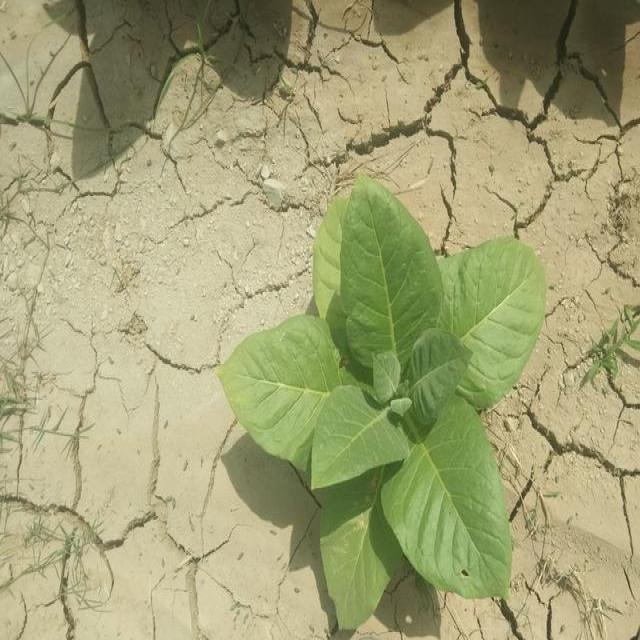crop: (222, 196, 536, 614)
